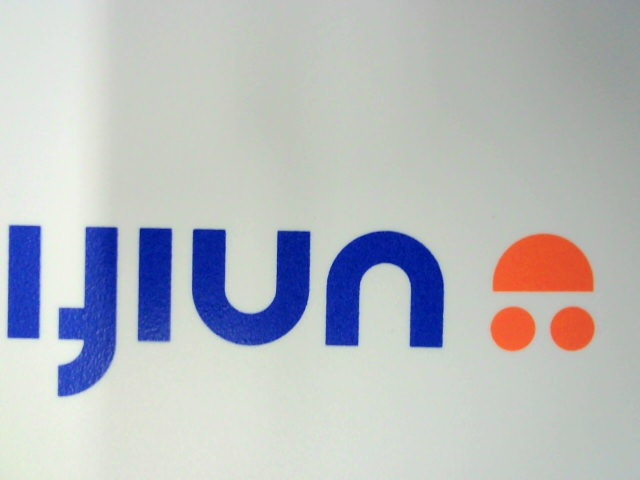BN_unifi: (4, 215, 606, 399)
